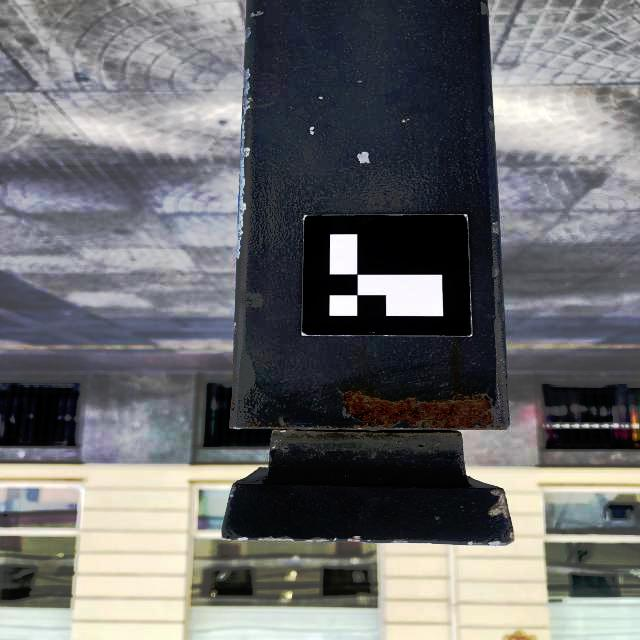Corrosion: (317, 392, 495, 431), (229, 392, 236, 429), (232, 373, 237, 381), (487, 428, 506, 430), (233, 357, 236, 367), (234, 327, 237, 335), (234, 341, 236, 346), (234, 349, 235, 353)
